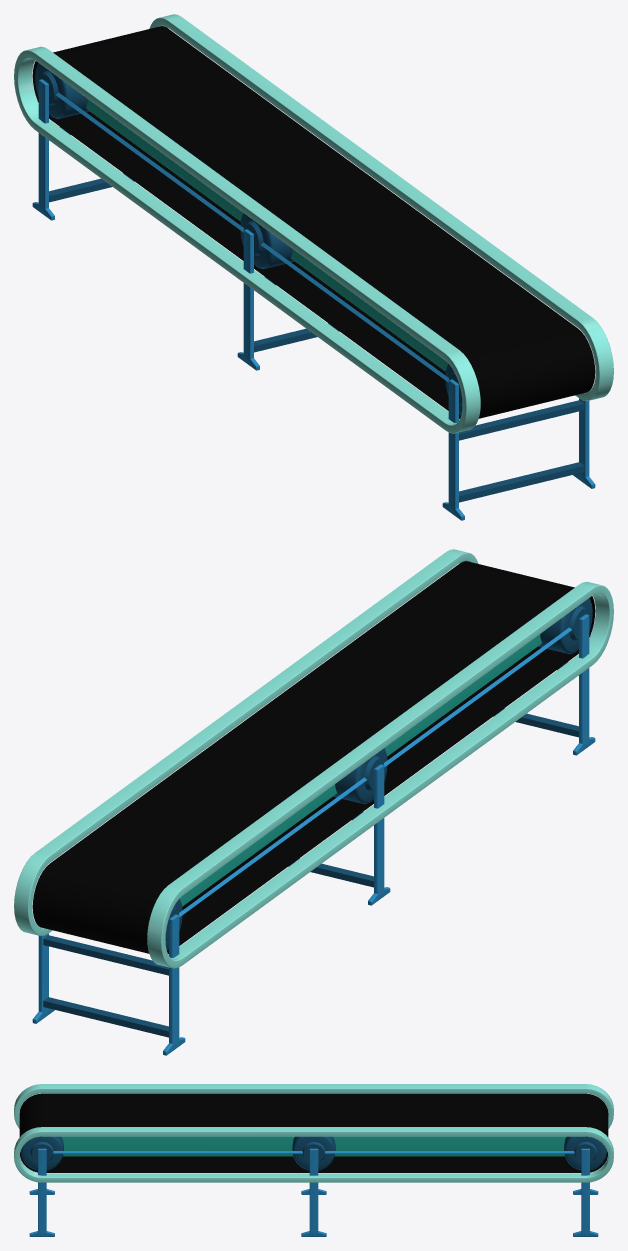
Rendered from conveyerbelt.fbx.
The picture shows the model from 3 angles, top to bottom: view 1: azimuth 30°, elevation 25°; view 2: azimuth 150°, elevation 25°; view 3: azimuth 270°, elevation 25°; orthographic projection. The views are drawn at different scales.
Visible parts, largest first — view 1: transform12; view 2: transform12; view 3: transform12.
Part boxes in pixels (x1,y1,x2,y2): transform12: (14,14,613,520); transform12: (14,549,613,1055); transform12: (14,1084,613,1236).
Size of the model in its own units: 0.75 by 0.7875 by 3.98.
